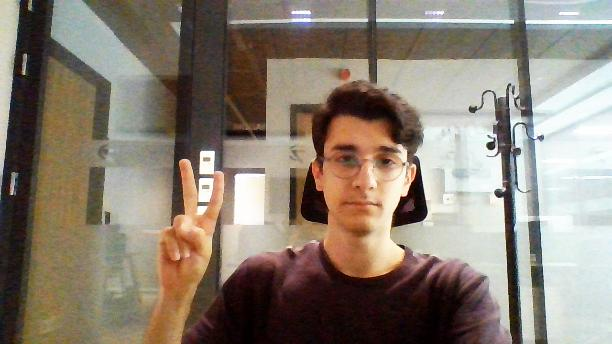Scissors: (155, 156, 226, 296)
